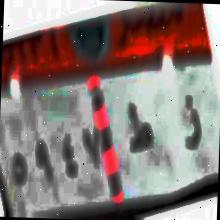4: (59, 128, 79, 184)
5: (10, 142, 28, 194)
7: (80, 116, 103, 174)
9: (33, 134, 56, 194)
Taa: (123, 97, 158, 159)
zay: (178, 90, 206, 162)
